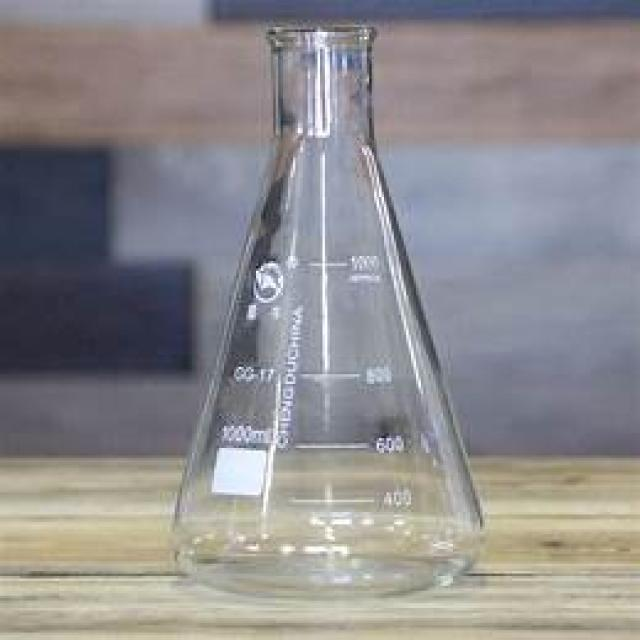Titrarion: (172, 17, 487, 596)
